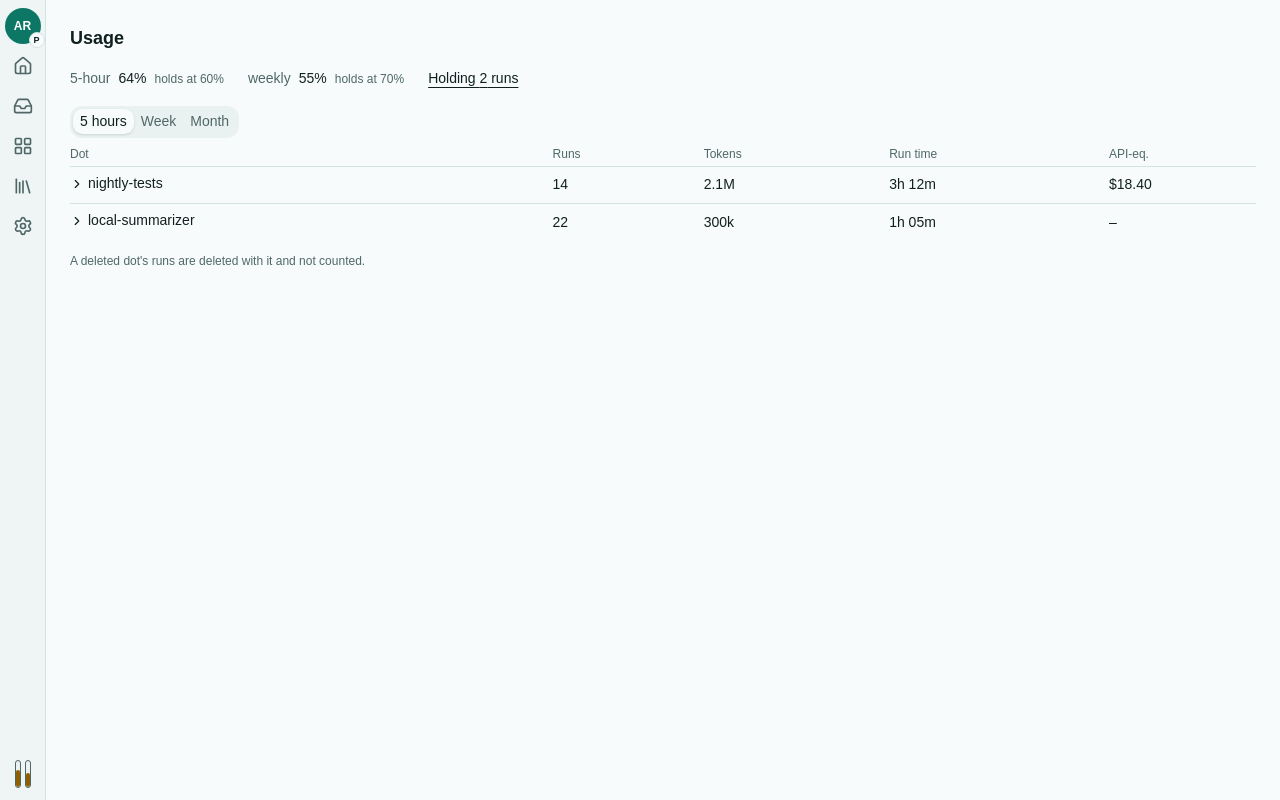
the Usage page › opens a dot's heaviest runs, each a link to its run
This screenshot has width=1280, height=800.
Check: the heading "Usage" is shown, box [70,28,124,48]
Step 1. Click the button "nightly-tests" → [116, 184], box [70,173,163,194]
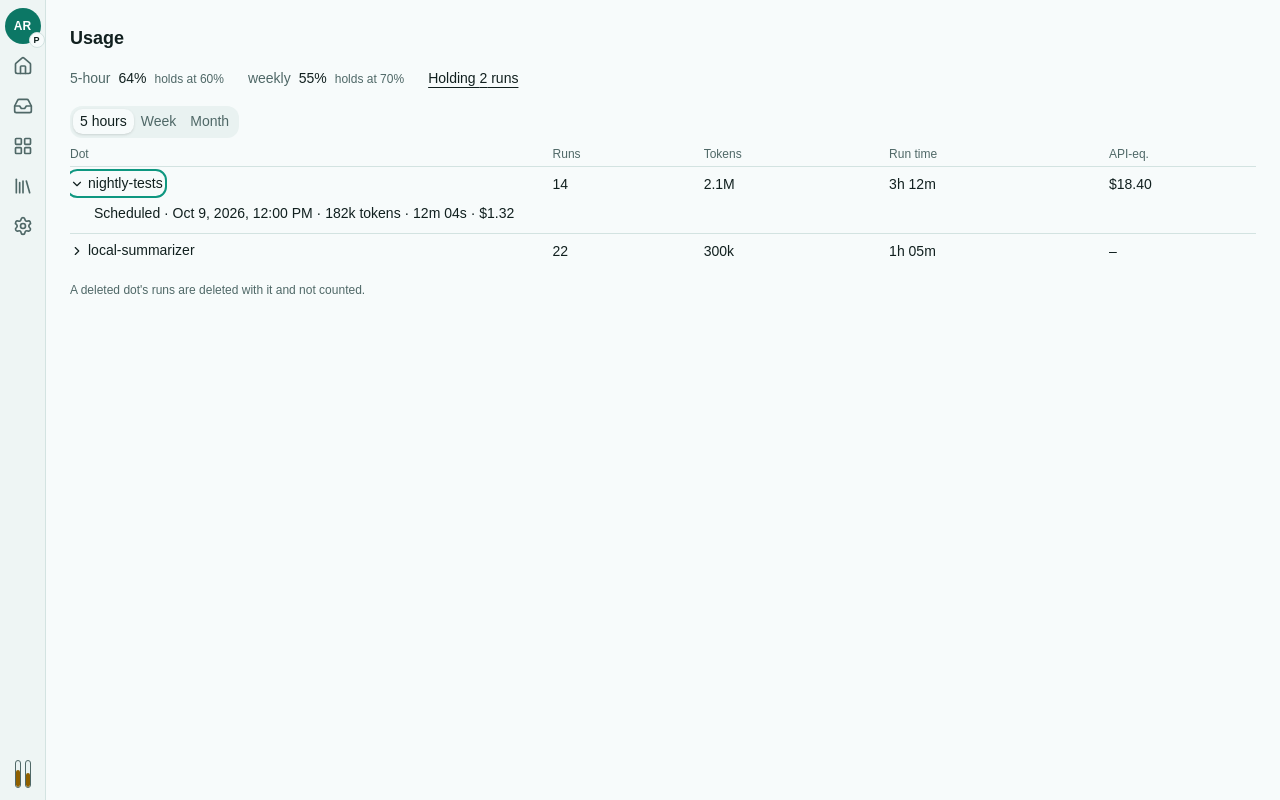
Check: the button "nightly-tests" is expanded, box [70,173,163,194]
Check: the 6th link shows "182k tokens", box [94,205,514,221]
Check: the 6th link shows "$1.32", box [94,205,514,221]
